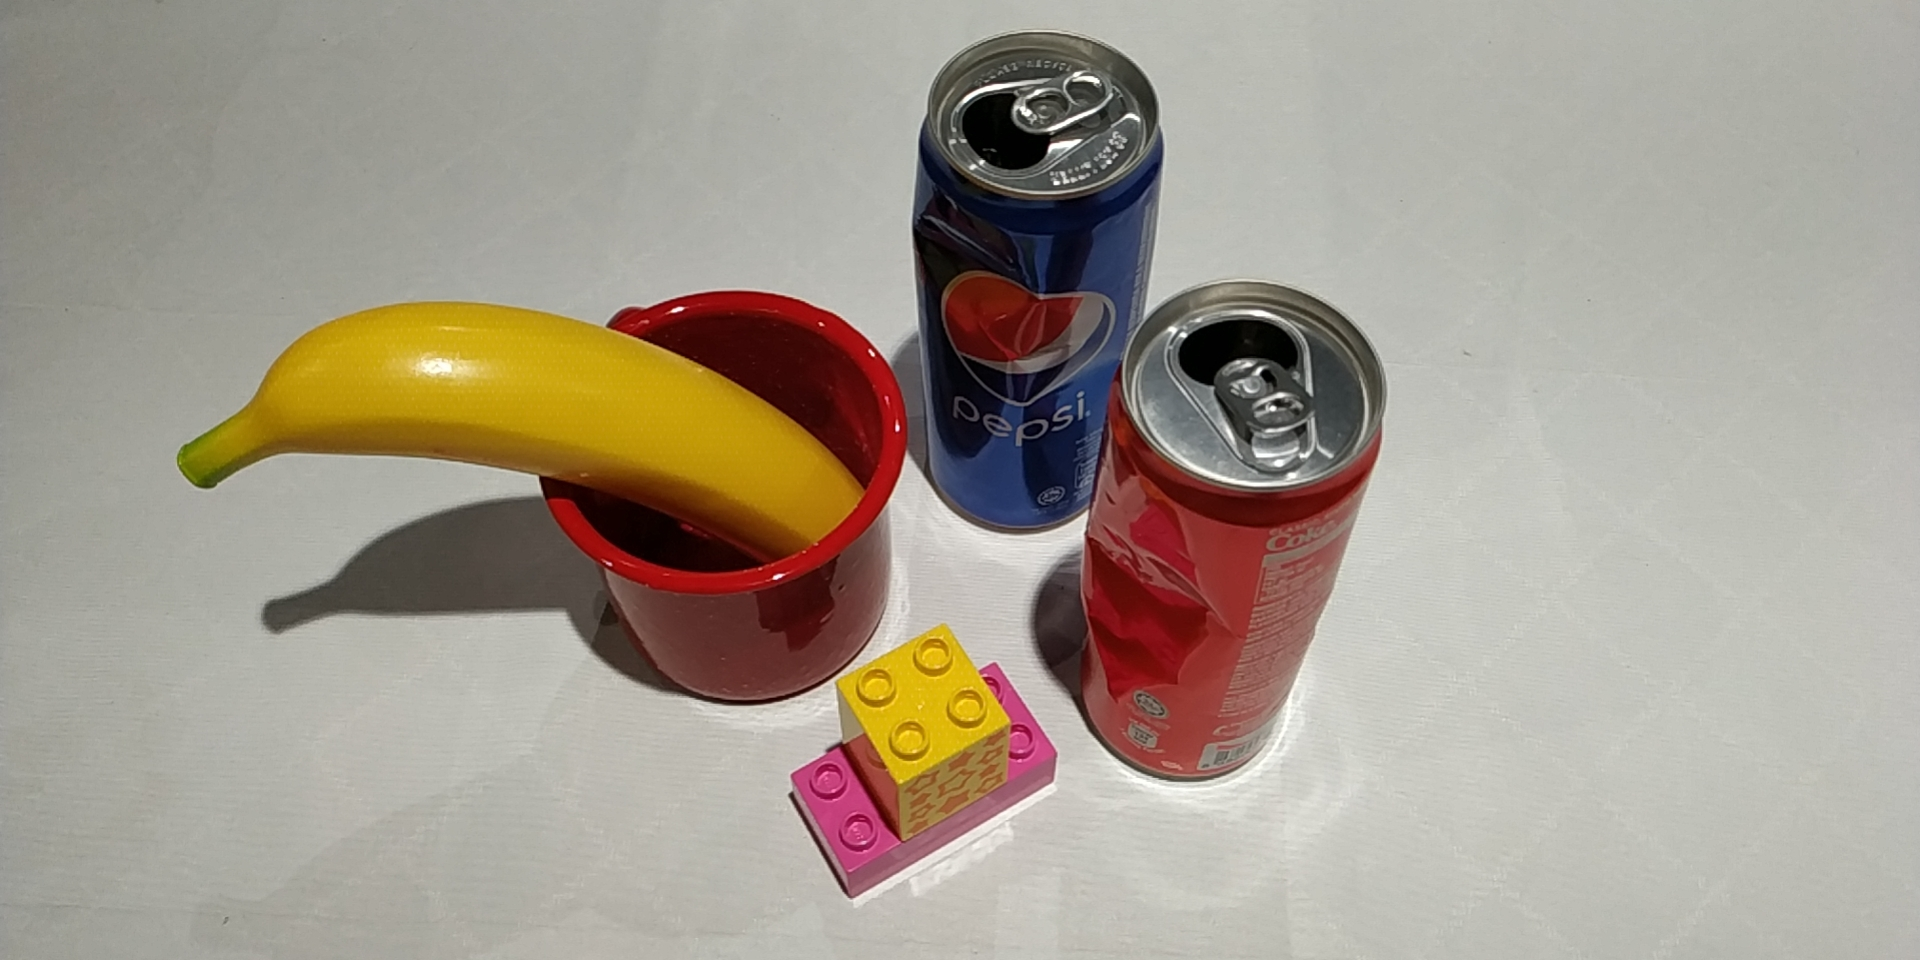banana: (174, 295, 872, 576)
box: (780, 661, 1063, 900), (836, 622, 1013, 831)
can: (1078, 278, 1393, 784), (909, 26, 1176, 539)
cup: (534, 287, 916, 708)
